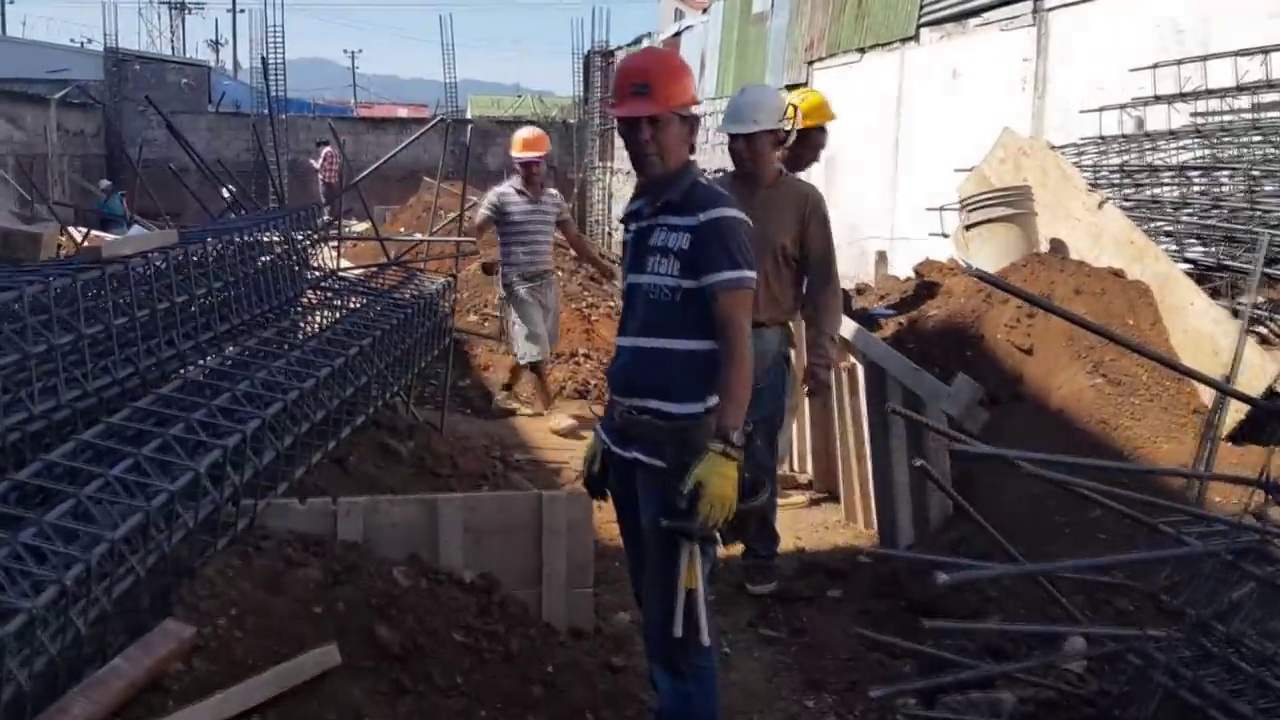helmet: (606, 39, 711, 121), (722, 84, 793, 138), (783, 82, 837, 133), (510, 127, 555, 165), (98, 180, 112, 192)
helmet-off: (314, 137, 330, 152)
helmet-on: (605, 36, 710, 206), (721, 85, 798, 185), (776, 82, 837, 175), (509, 126, 559, 188), (97, 180, 114, 198)
person: (584, 31, 758, 682), (725, 67, 856, 553), (473, 122, 584, 385), (313, 136, 341, 213), (97, 180, 129, 235)
